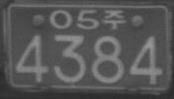0: (48, 8, 73, 29)
3: (53, 34, 87, 83)
4: (129, 34, 163, 85), (15, 34, 49, 82)
5: (76, 8, 99, 30)
8: (91, 34, 124, 85)
주: (103, 9, 126, 29)
